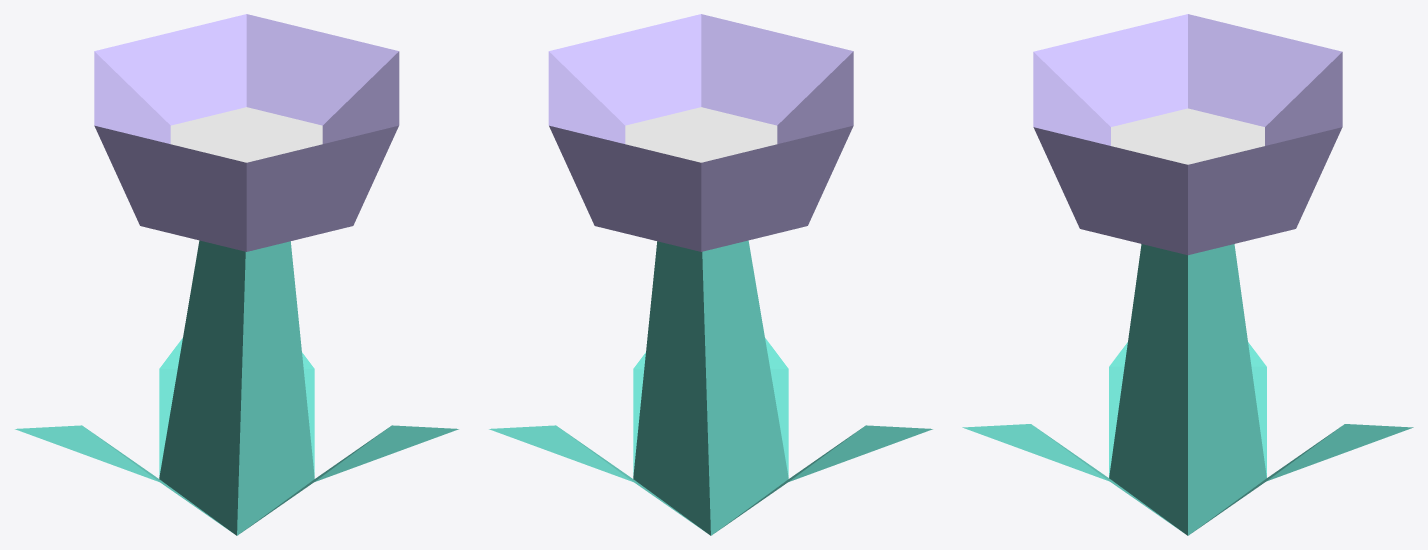
File: flower_purpleC.glb
3 views of the same model, side by side, from view 1: azimuth 30°, elevation 25°; view 2: azimuth 150°, elevation 25°; view 3: azimuth 270°, elevation 25° (orthographic).
Parts seen in each view (by area): view 1: flower_purpleC; view 2: flower_purpleC; view 3: flower_purpleC.
Part boxes in pixels (x1,y1,x2,y2): flower_purpleC: (15, 14, 458, 535); flower_purpleC: (489, 14, 932, 535); flower_purpleC: (962, 14, 1413, 535).
Bounding box in the file's own units: 0.1806 × 0.1825 × 0.1811.
Materials: 1 (1 with a texture image).
